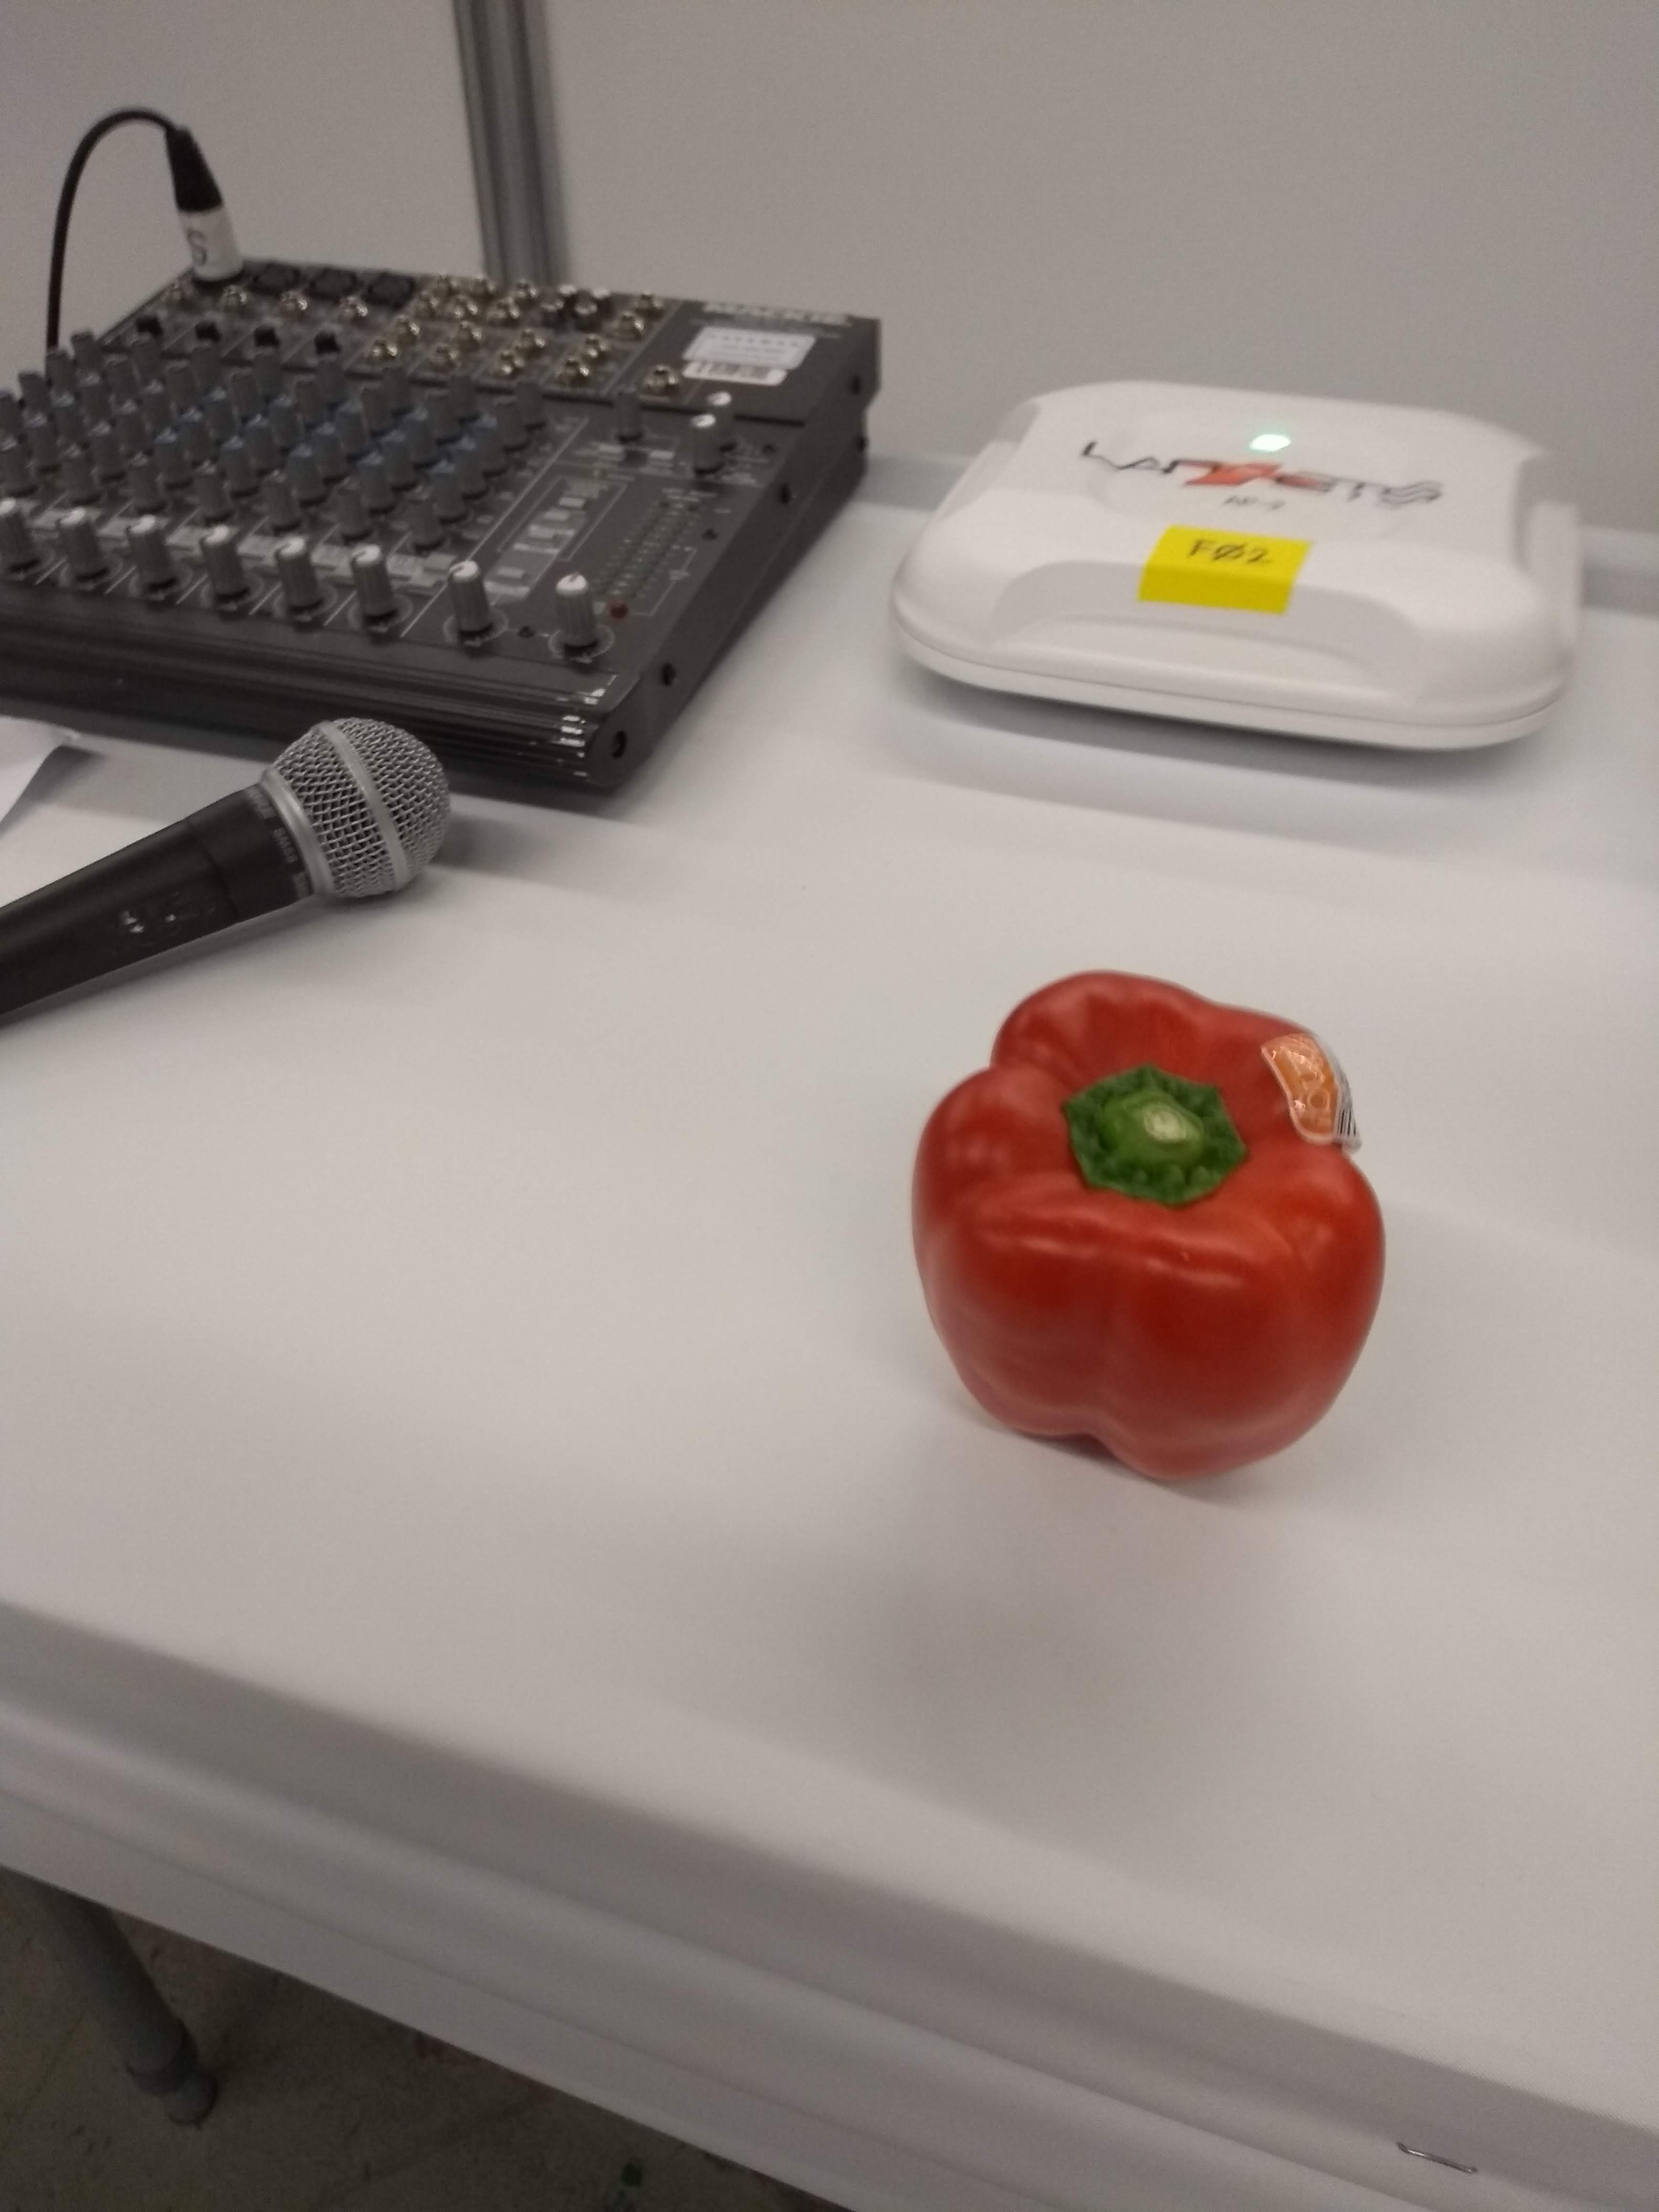paprika: (889, 951, 1405, 1503)
